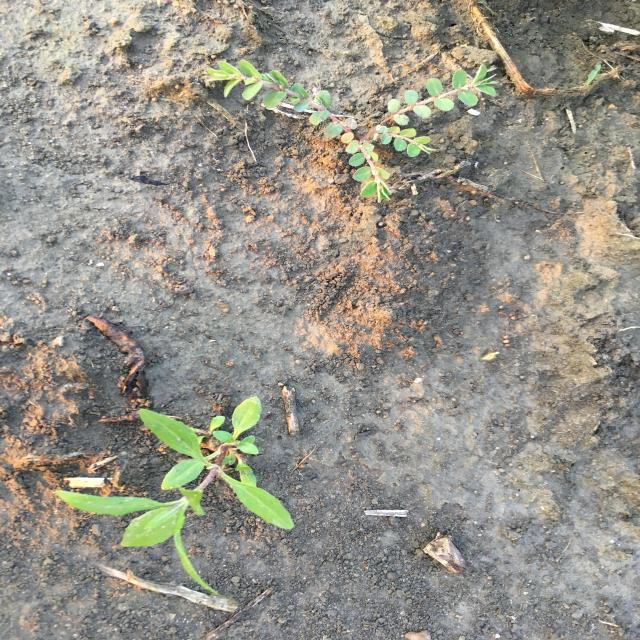Eclipta: (51, 394, 297, 598)
SpottedSpurge: (200, 57, 503, 206)
